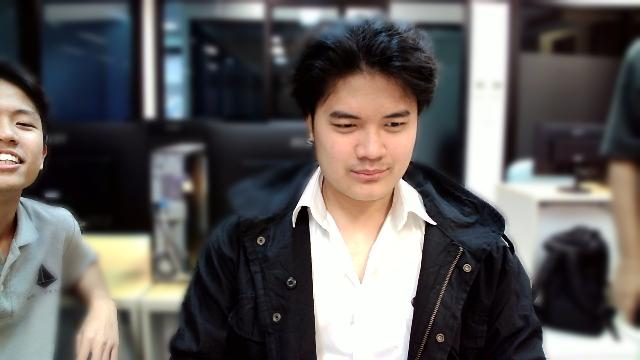fokus: (303, 43, 419, 205)
